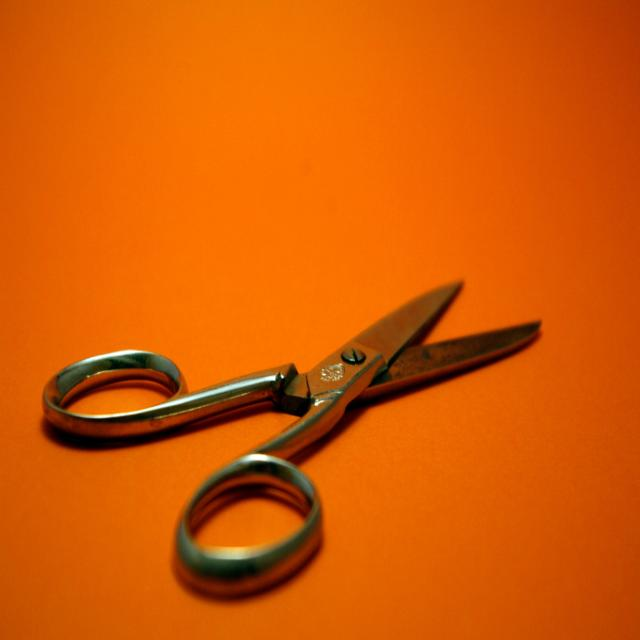scissors: (41, 277, 542, 598)
